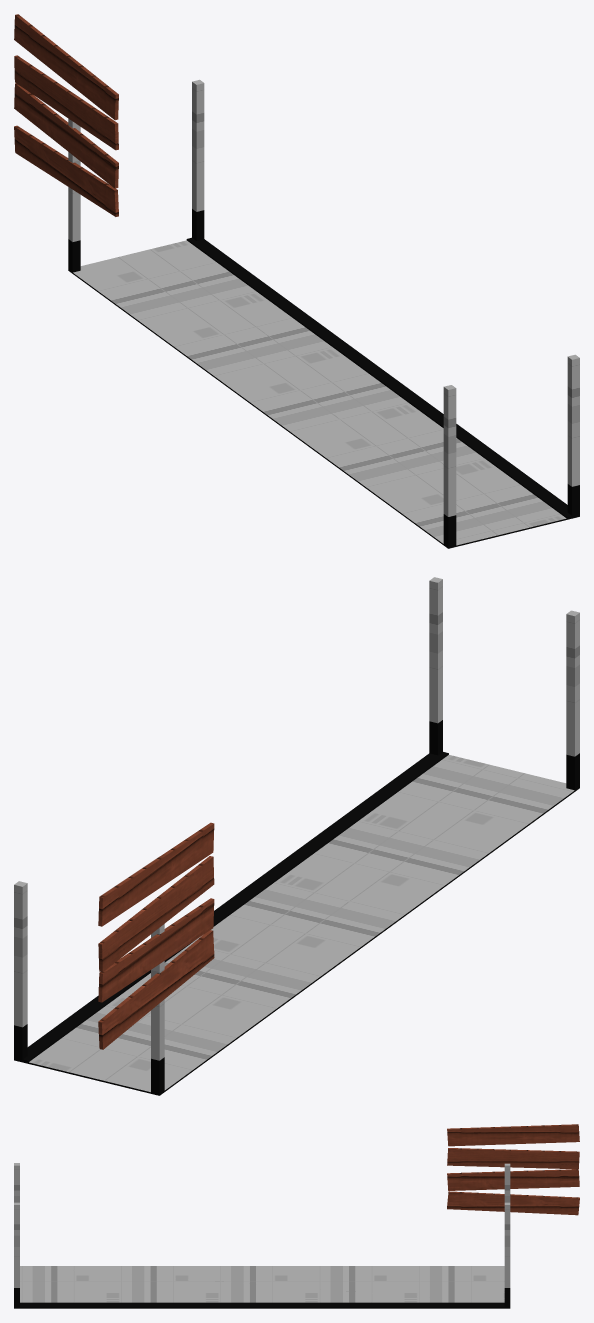
The model's file is start.glb.
3 renders of one model, top to bottom at view 1: azimuth 30°, elevation 25°; view 2: azimuth 150°, elevation 25°; view 3: azimuth 270°, elevation 25°, orthographic. The views are drawn at different scales.
Visible parts, largest first — view 1: roof_flatEdge, barricade_large, columns_small (×2); view 2: roof_flatEdge, barricade_large, columns_small (×2); view 3: roof_flatEdge, barricade_large, columns_small (×2).
Boxes of the visible parts, <box> form: roof_flatEdge: <box>68,237,579,548</box>; barricade_large: <box>14,14,118,216</box>; columns_small (×2): <box>68,79,579,547</box>; roof_flatEdge: <box>14,752,579,1095</box>; barricade_large: <box>98,822,214,1049</box>; columns_small (×2): <box>14,577,579,1095</box>; roof_flatEdge: <box>14,1266,510,1308</box>; barricade_large: <box>447,1124,579,1215</box>; columns_small (×2): <box>14,1163,510,1308</box>.
Bounding box in the file's own units: 1.01 × 1.58 × 5.7.
Materials: 7 (4 with a texture image).
